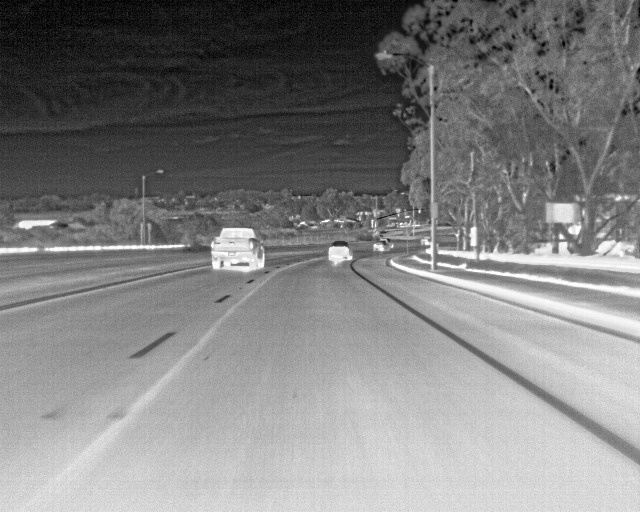vehicle: (212, 224, 268, 277), (328, 241, 356, 265), (373, 238, 397, 253)
